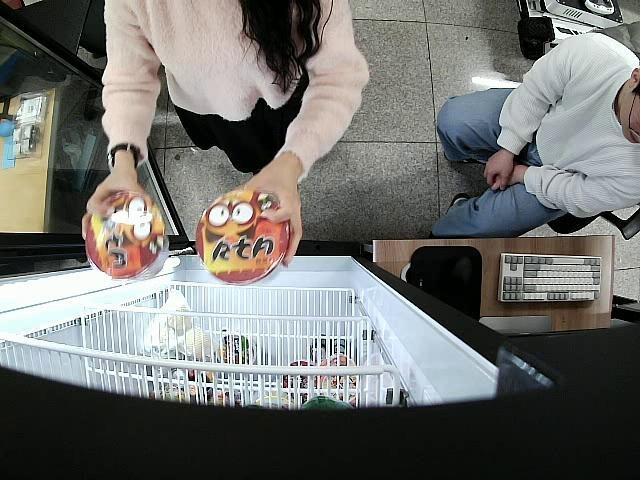05_nuguri_L: (194, 192, 291, 286), (84, 192, 170, 280)
